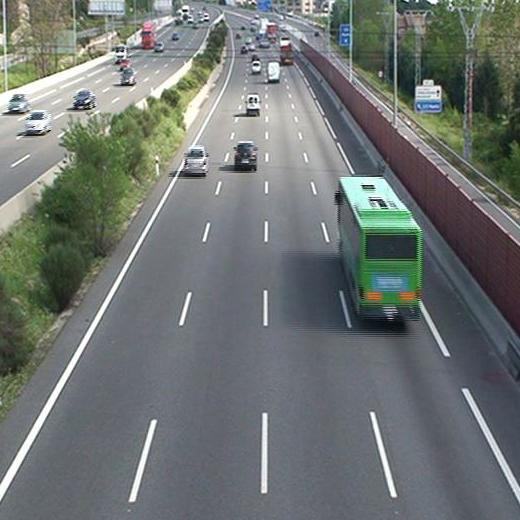bus: (334, 177, 421, 320)
car: (184, 147, 210, 177), (234, 142, 257, 169)
truck: (279, 40, 292, 65)
van: (244, 93, 260, 115), (267, 63, 280, 84), (250, 61, 260, 74)
